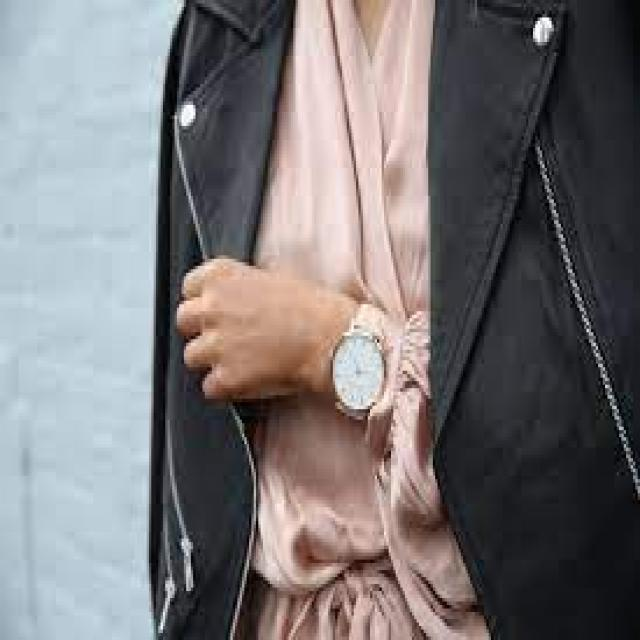Watch: (323, 303, 395, 429)
